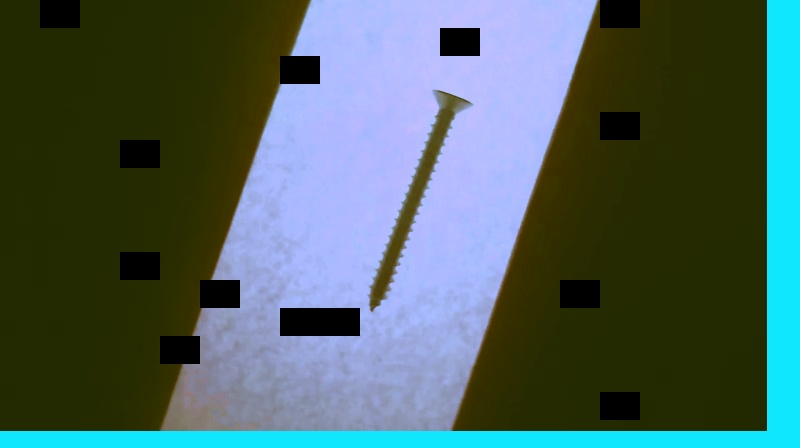S002: (364, 84, 475, 312)
